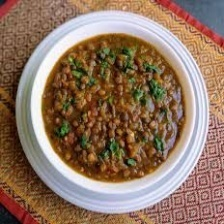sabzi: (39, 31, 186, 183)
